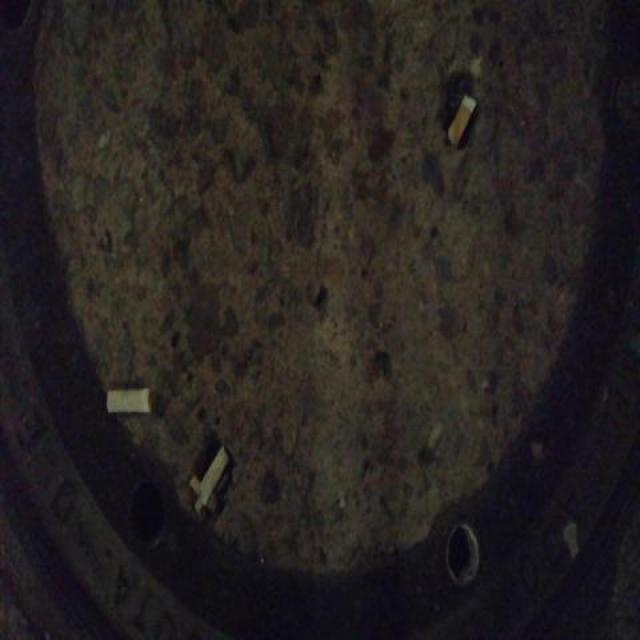non-organic waste: (197, 438, 232, 511), (443, 89, 478, 152), (102, 382, 154, 418)
